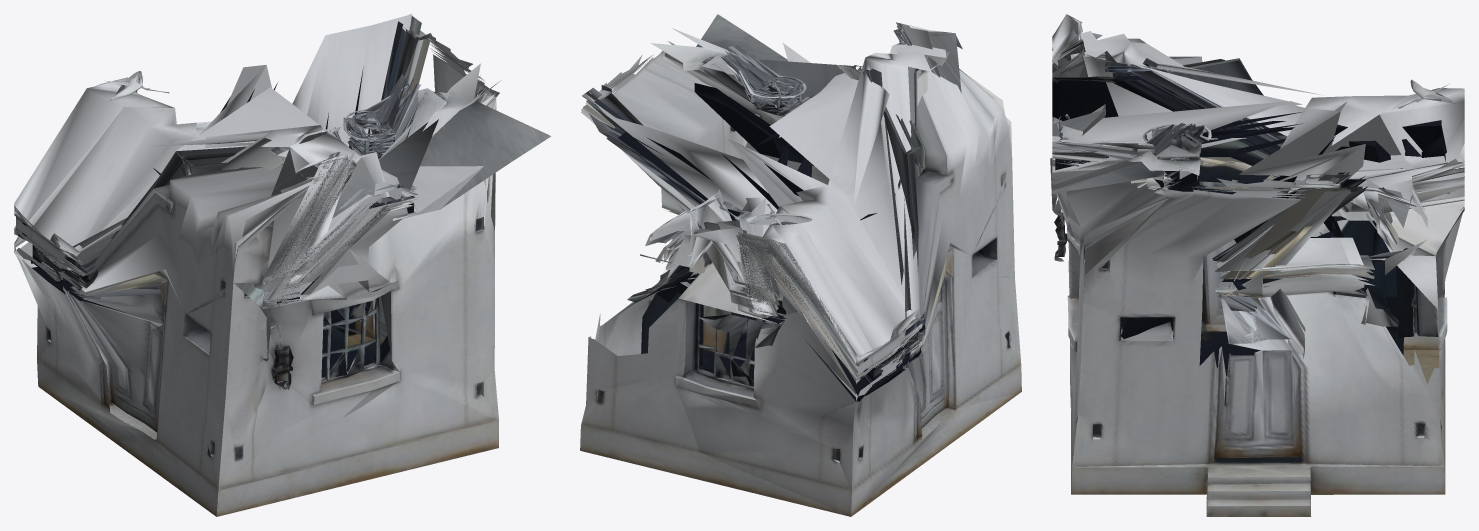
File: relay_wreck.glb
3 renders of one model, left to right at view 1: azimuth 30°, elevation 25°; view 2: azimuth 150°, elevation 25°; view 3: azimuth 270°, elevation 25°, orthographic. The views are drawn at different scales.
Parts seen in each view (by area): view 1: wall.001, roof.001, glass.001; view 2: wall.001, roof.001, glass.001; view 3: wall.001, roof.001, glass.001.
Part boxes in pixels (x1,y1,x2,y2): wall.001: (14,16,551,516); roof.001: (14,14,501,277); glass.001: (31,156,414,365); wall.001: (580,14,1021,516); roof.001: (585,25,954,363); glass.001: (607,126,908,403); wall.001: (1050,14,1464,516); roof.001: (1052,14,1464,271); glass.001: (1052,59,1462,355).
Size of the model in its own units: 4.63 by 4.64 by 4.65.
Materials: 1 (1 with a texture image).
